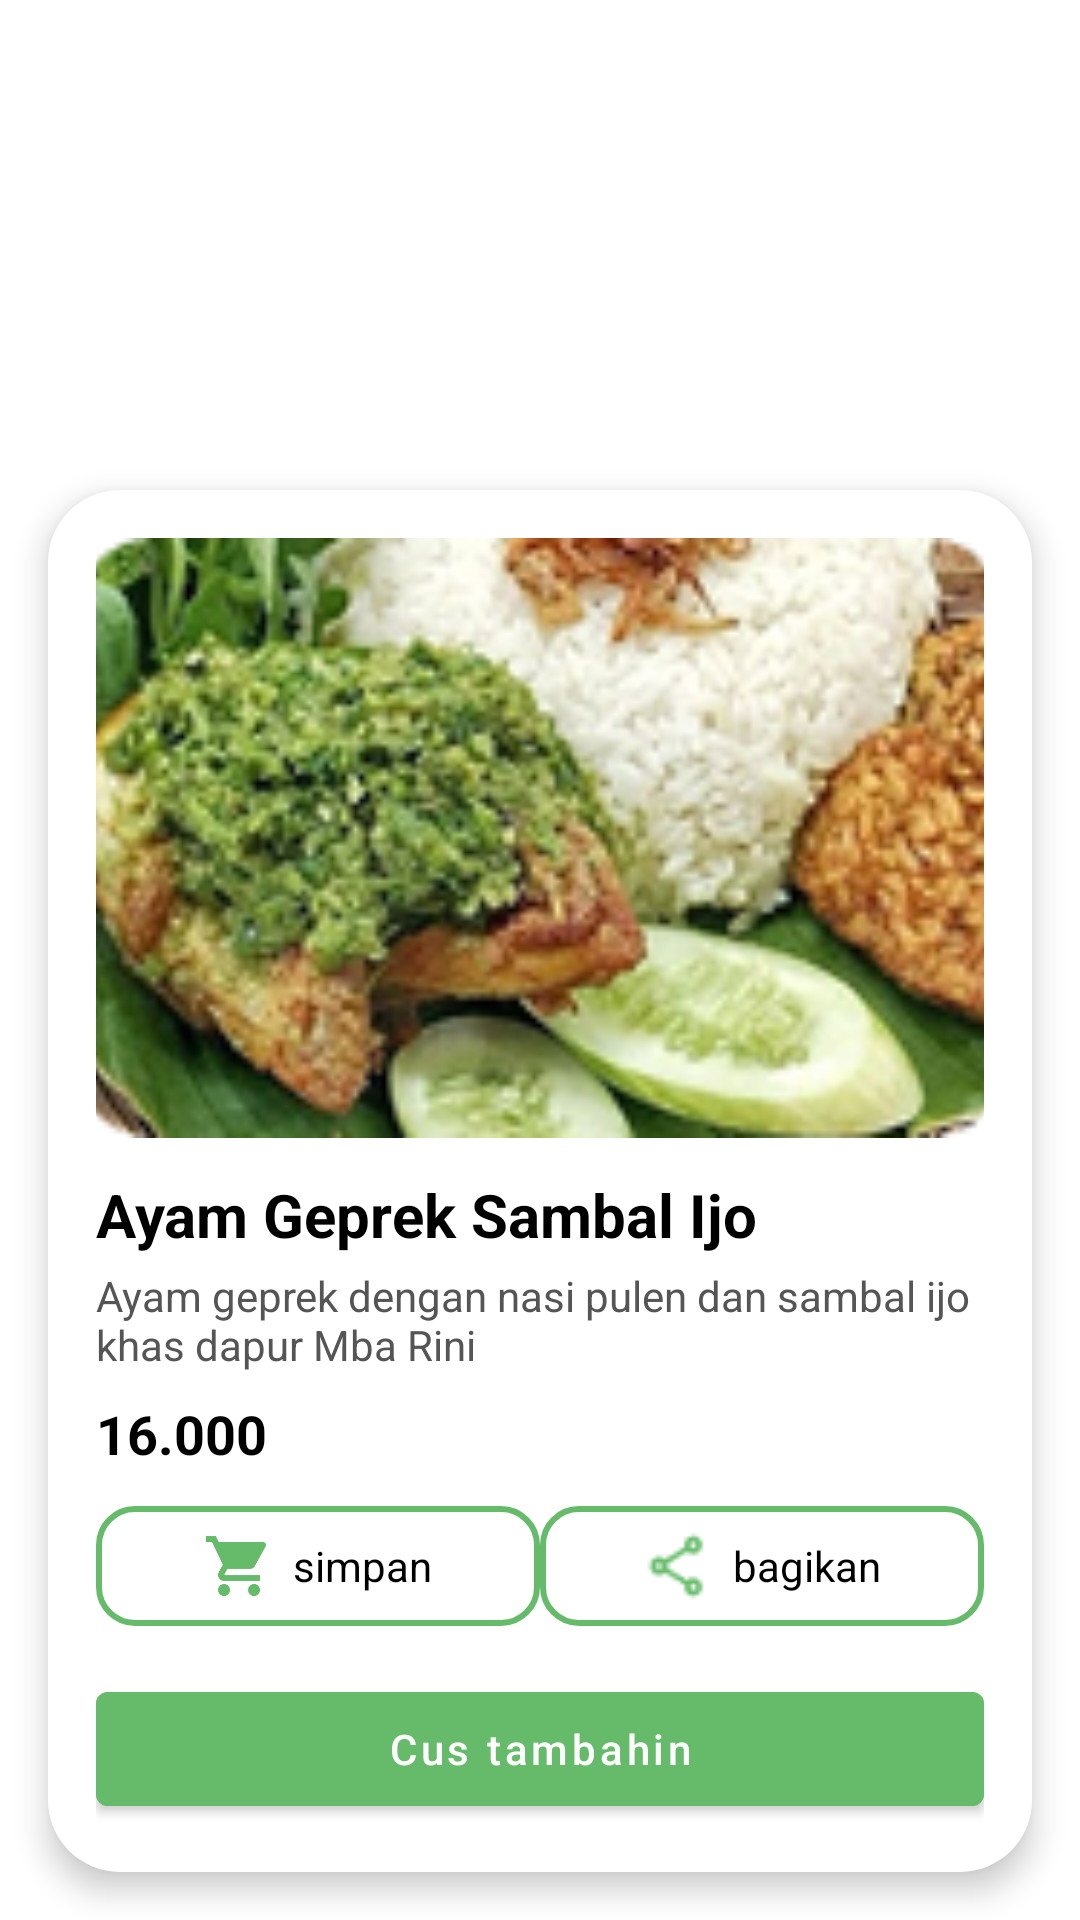

Icons on this 1080x1920 Android screen, each with the point to tap as [x,y]:
keranjang: [236,1566]
